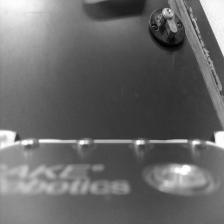Lock: (148, 6, 188, 52)
